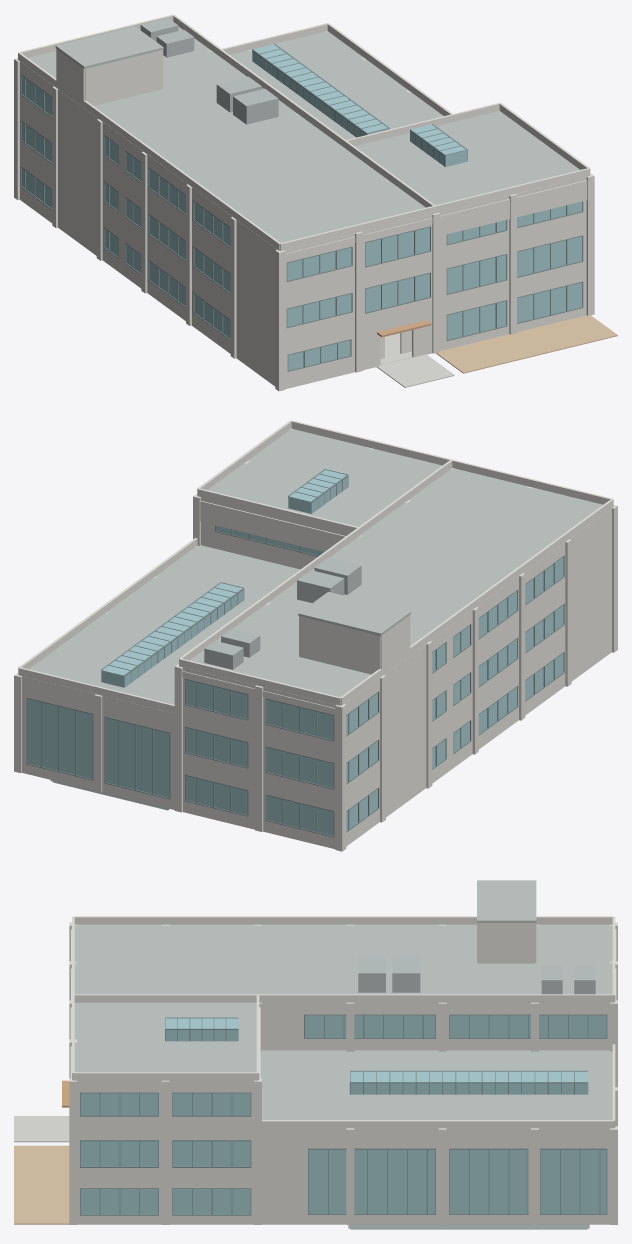
Rendered from sports_center.glb.
3 views of the same model, one above another, from view 1: azimuth 30°, elevation 25°; view 2: azimuth 150°, elevation 25°; view 3: azimuth 270°, elevation 25° (orthographic). The views are drawn at different scales.
Parts seen in each view (by area): view 1: geometry_0, geometry_9, geometry_4, geometry_5, geometry_7, geometry_6, geometry_8; view 2: geometry_0, geometry_9, geometry_4, geometry_5, geometry_6; view 3: geometry_9, geometry_0, geometry_4, geometry_5, geometry_7, geometry_6, geometry_8, geometry_2.
Boxes of the visible parts, bbox=[...] form: geometry_0: bbox=[14, 14, 594, 391]; geometry_9: bbox=[28, 26, 579, 242]; geometry_4: bbox=[21, 44, 582, 370]; geometry_5: bbox=[20, 44, 583, 371]; geometry_7: bbox=[436, 315, 617, 373]; geometry_6: bbox=[140, 18, 278, 124]; geometry_8: bbox=[286, 333, 454, 388]; geometry_0: bbox=[14, 420, 617, 851]; geometry_9: bbox=[29, 429, 602, 704]; geometry_4: bbox=[28, 470, 563, 836]; geometry_5: bbox=[26, 469, 564, 837]; geometry_6: bbox=[204, 557, 361, 669]; geometry_9: bbox=[74, 880, 612, 1119]; geometry_0: bbox=[69, 916, 617, 1224]; geometry_4: bbox=[80, 1015, 606, 1214]; geometry_5: bbox=[80, 1014, 607, 1215]; geometry_7: bbox=[14, 1145, 69, 1224]; geometry_6: bbox=[358, 957, 595, 994]; geometry_8: bbox=[14, 1116, 609, 1224]; geometry_2: bbox=[348, 1224, 589, 1229].
Bounding box in the file's own units: 28.6 × 16.95 × 45.8.
